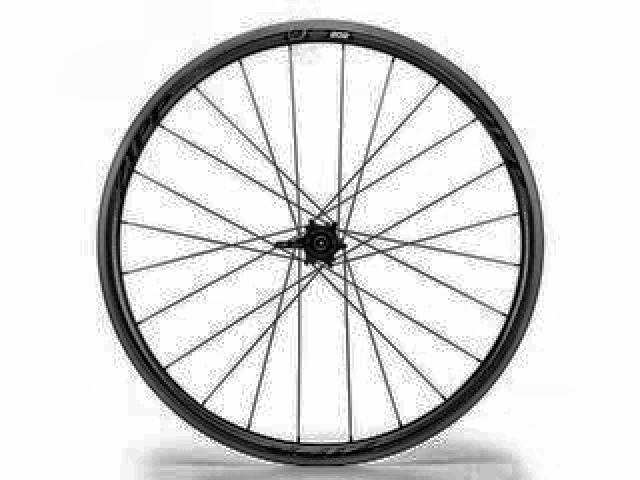wheel: (94, 20, 546, 468)
